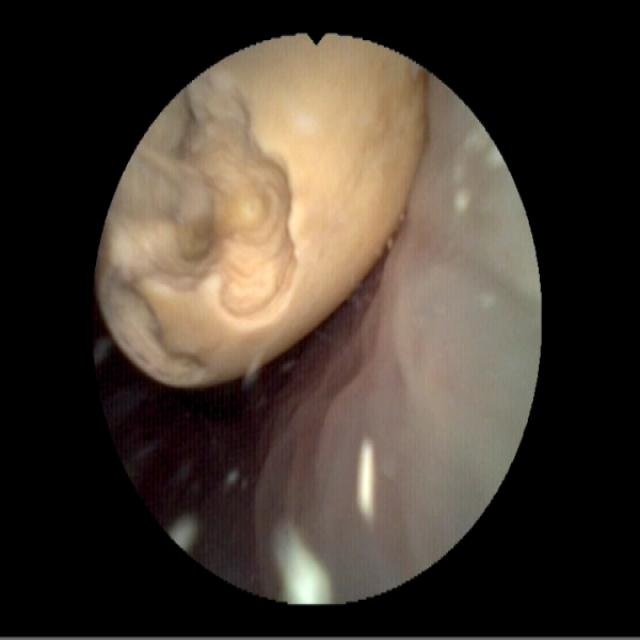stone: (100, 40, 426, 388)
